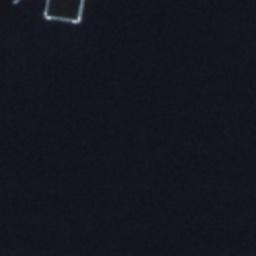square_solid: (38, 1, 88, 27)
